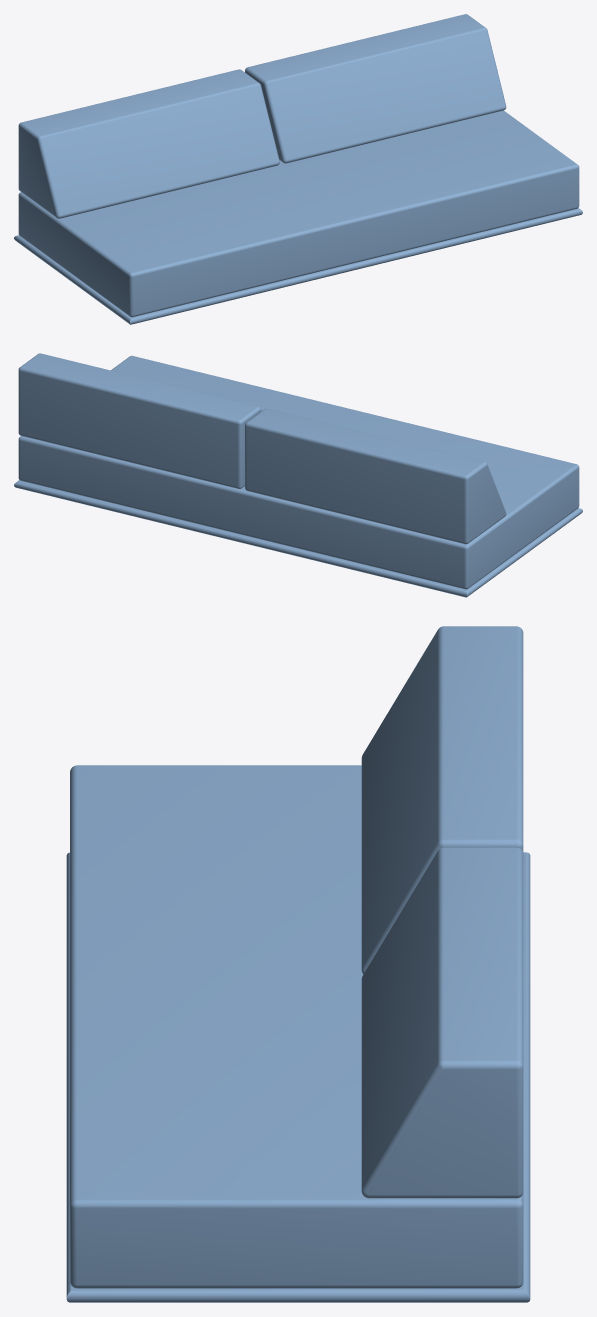
Rendered from sofa.dae.
3 views of the same model, one above another, from view 1: azimuth 30°, elevation 25°; view 2: azimuth 150°, elevation 25°; view 3: azimuth 270°, elevation 25° (orthographic). The views are drawn at different scales.
Parts seen in each view (by area): view 1: Group_3, Group_1, Group_2, Group_4; view 2: Group_3, Group_1, Group_2, Group_4; view 3: Group_3, Group_2, Group_1, Group_4.
Part boxes in pixels (box(x1,y1,x2,y2)): Group_3: box(18, 110, 579, 317); Group_1: box(18, 69, 279, 218); Group_2: box(245, 14, 506, 163); Group_4: box(14, 208, 582, 324); Group_3: box(18, 355, 579, 589); Group_1: box(245, 408, 506, 544); Group_2: box(18, 353, 261, 488); Group_4: box(14, 480, 582, 597); Group_3: box(70, 765, 523, 1288); Group_2: box(361, 847, 523, 1198); Group_1: box(361, 626, 523, 974); Group_4: box(66, 852, 530, 1302).
Bounding box in the file's own units: 75 × 33.25 × 19.
